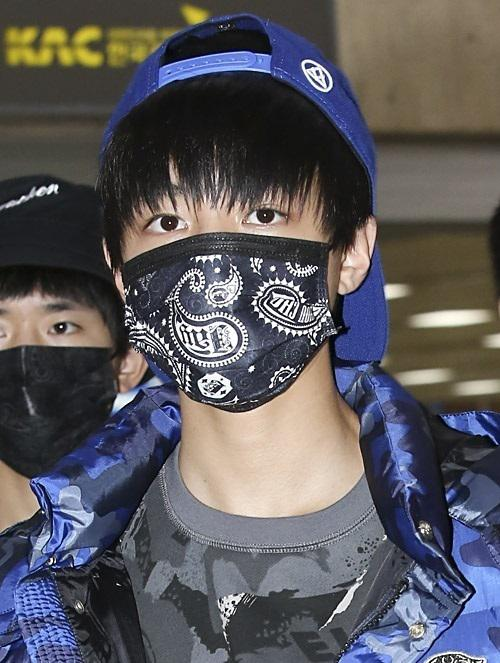OK: (113, 161, 351, 399), (1, 293, 120, 471)
